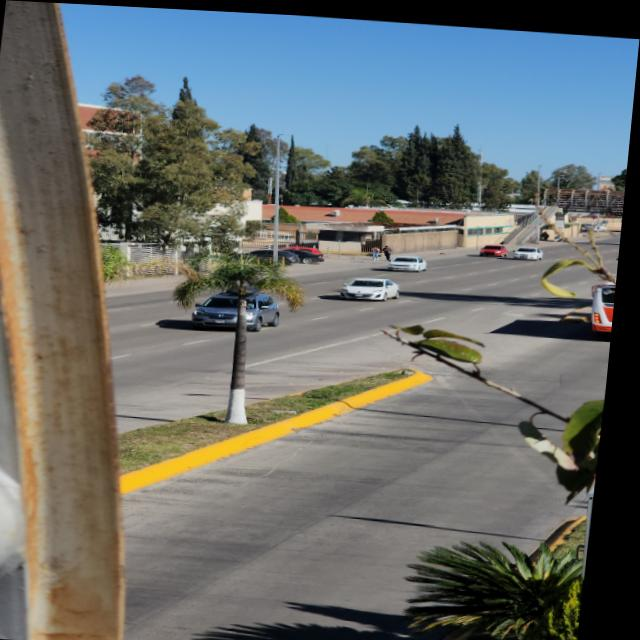Auto: (199, 286, 289, 332), (345, 271, 406, 298), (385, 247, 433, 269), (284, 241, 329, 261), (517, 241, 548, 256), (484, 239, 513, 254)
